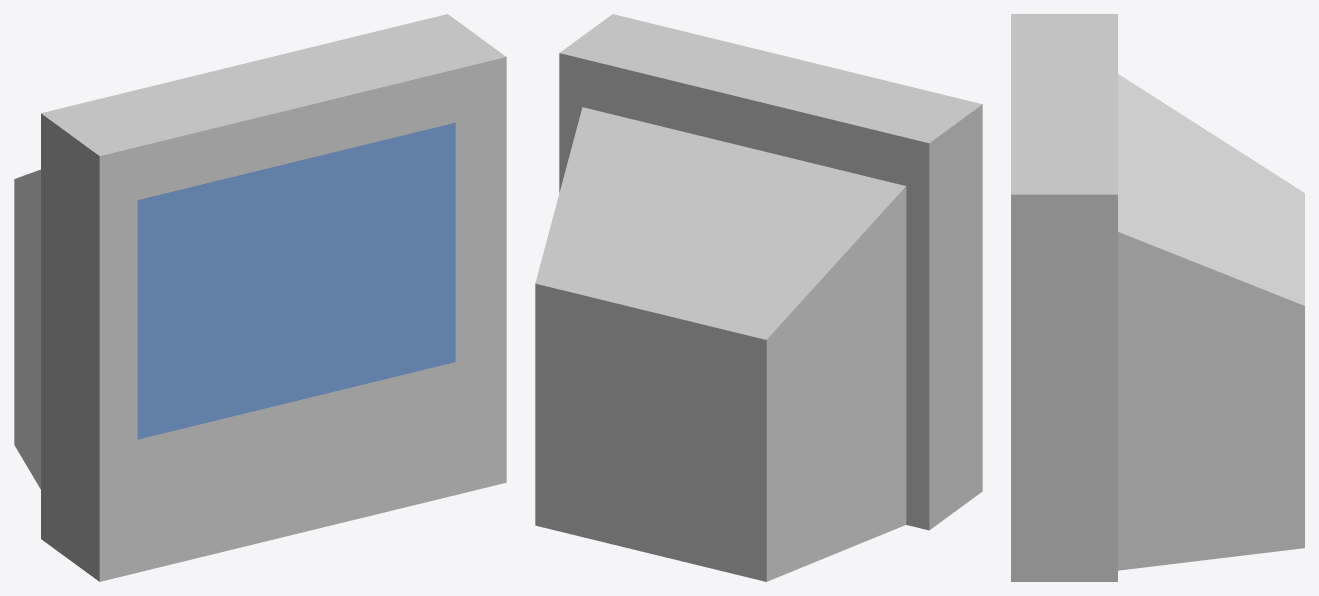
3 renders of one model, left to right at view 1: azimuth 30°, elevation 25°; view 2: azimuth 150°, elevation 25°; view 3: azimuth 270°, elevation 25°, orthographic. The views are drawn at different scales.
Parts seen in each view (by area): view 1: TV_01; view 2: TV_01; view 3: TV_01.
Boxes of the visible parts, x1,y1,x2,y2 form: TV_01: [14, 14, 506, 581]; TV_01: [535, 14, 982, 581]; TV_01: [1011, 14, 1304, 581].
Bounding box in the file's own units: 50 × 50 × 34.38.
